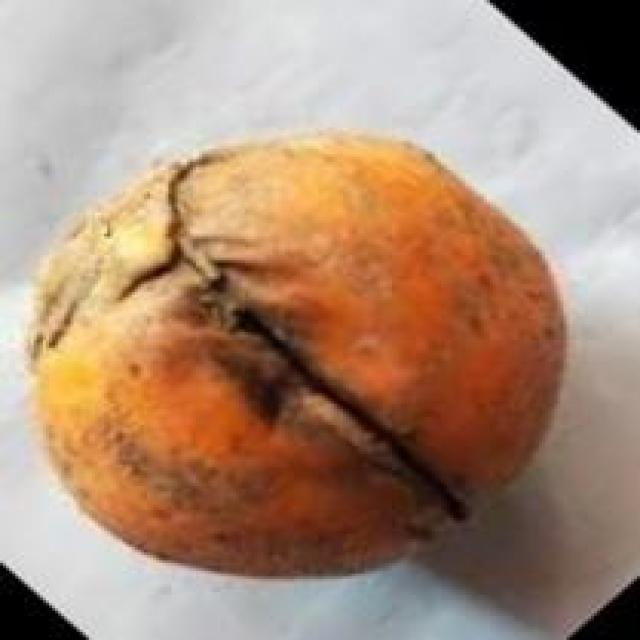damaged: (28, 130, 563, 574)
